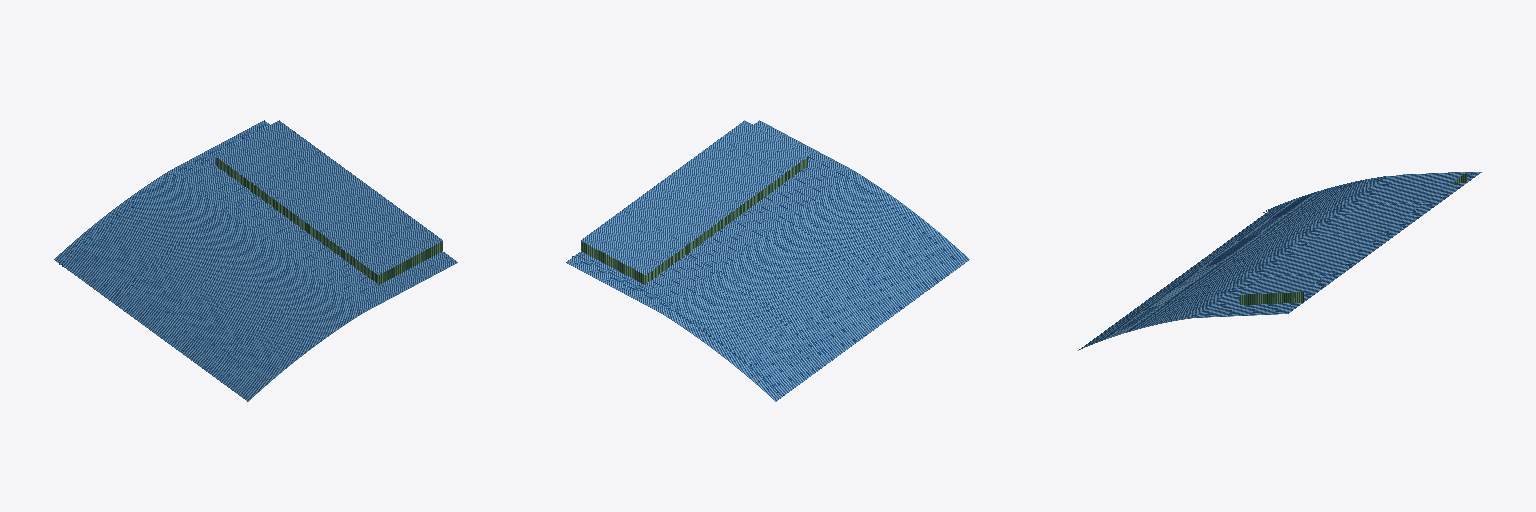
The picture shows the model from 3 angles: view 1: azimuth 30°, elevation 25°; view 2: azimuth 150°, elevation 25°; view 3: azimuth 330°, elevation 25°; orthographic projection.
Size of the model in its own units: 4723 by 2136 by 7545.
Materials: 4 (2 with a texture image).